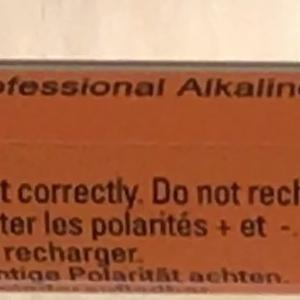keyword: (167, 67, 224, 107)
